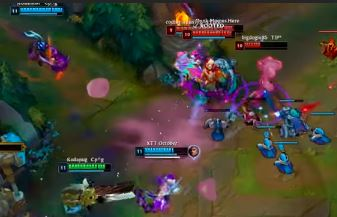bar: (134, 145, 191, 160), (180, 23, 244, 35), (10, 5, 65, 18), (56, 162, 112, 174), (165, 24, 225, 35), (234, 40, 288, 52), (182, 29, 235, 40)
